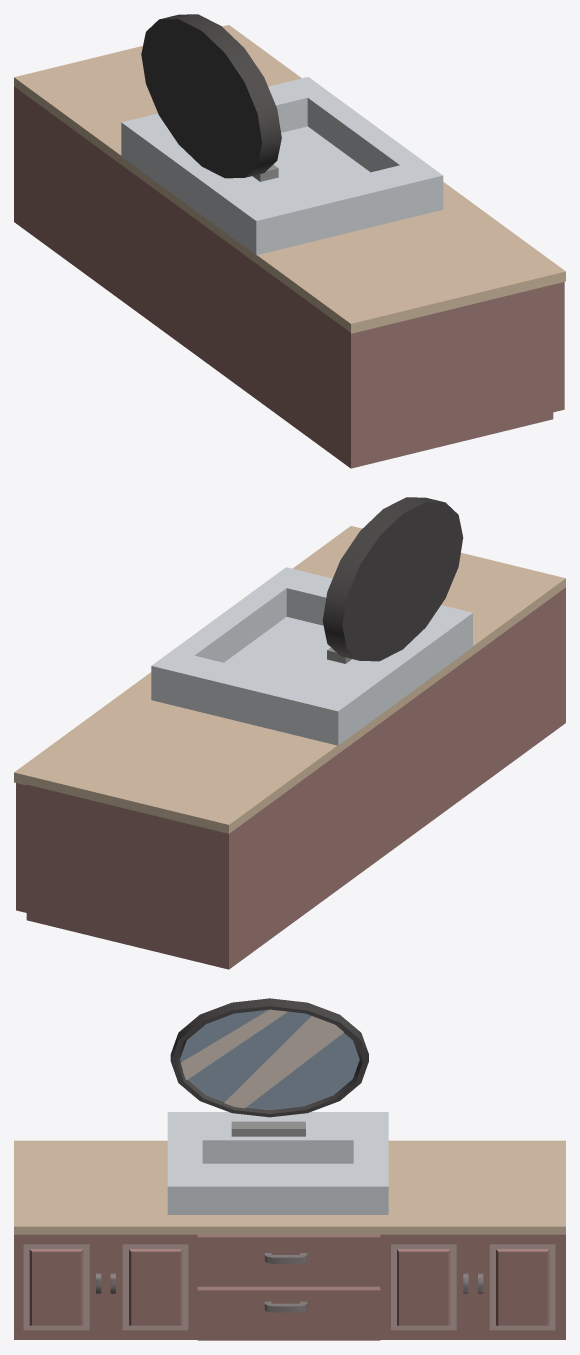
The model's file is washstand-transformed.glb.
3 views of the same model, one above another, from view 1: azimuth 30°, elevation 25°; view 2: azimuth 150°, elevation 25°; view 3: azimuth 270°, elevation 25° (orthographic). The views are drawn at different scales.
Parts seen in each view (by area): view 1: Cube 76, Cube 86, sink, Cylinder 13.002, Cube 83.003; view 2: Cube 76, Cube 86, sink, Cylinder 13.002, Cube 83; view 3: Cube 86, sink, Cylinder 13.002, Cube 81, Cube 80, Cylinder 14.002, Cube 83.003, Cube 83.002, Cube 83, Cube 83.001, Merged Geometry 2.005, Merged Geometry 2.004 (+3 smaller).
Part boxes in pixels (left/top/right/bottom): Cube 76: left=14, top=86, right=553, bottom=468; Cube 86: left=14, top=25, right=565, bottom=333; sink: left=121, top=77, right=443, bottom=255; Cylinder 13.002: left=141, top=14, right=281, bottom=178; Cube 83.003: left=553, top=282, right=564, bottom=412; Cube 76: left=26, top=587, right=565, bottom=969; Cube 86: left=14, top=526, right=565, bottom=833; sink: left=151, top=567, right=472, bottom=745; Cylinder 13.002: left=322, top=497, right=463, bottom=661; Cube 83: left=16, top=783, right=26, bottom=912; Cube 86: left=14, top=1140, right=565, bottom=1234; sink: left=167, top=1112, right=388, bottom=1214; Cylinder 13.002: left=170, top=998, right=368, bottom=1117; Cube 81: left=197, top=1286, right=380, bottom=1340; Cube 80: left=197, top=1234, right=380, bottom=1286; Cylinder 14.002: left=180, top=1009, right=359, bottom=1109; Cube 83.003: left=15, top=1234, right=105, bottom=1339; Cube 83.002: left=382, top=1234, right=472, bottom=1339; Cube 83: left=474, top=1234, right=563, bottom=1339; Cube 83.001: left=107, top=1234, right=196, bottom=1339; Merged Geometry 2.005: left=23, top=1244, right=555, bottom=1330; Merged Geometry 2.004: left=181, top=1009, right=343, bottom=1108.
Bounding box in the file's own units: 1.23 × 1.66 × 3.16.
